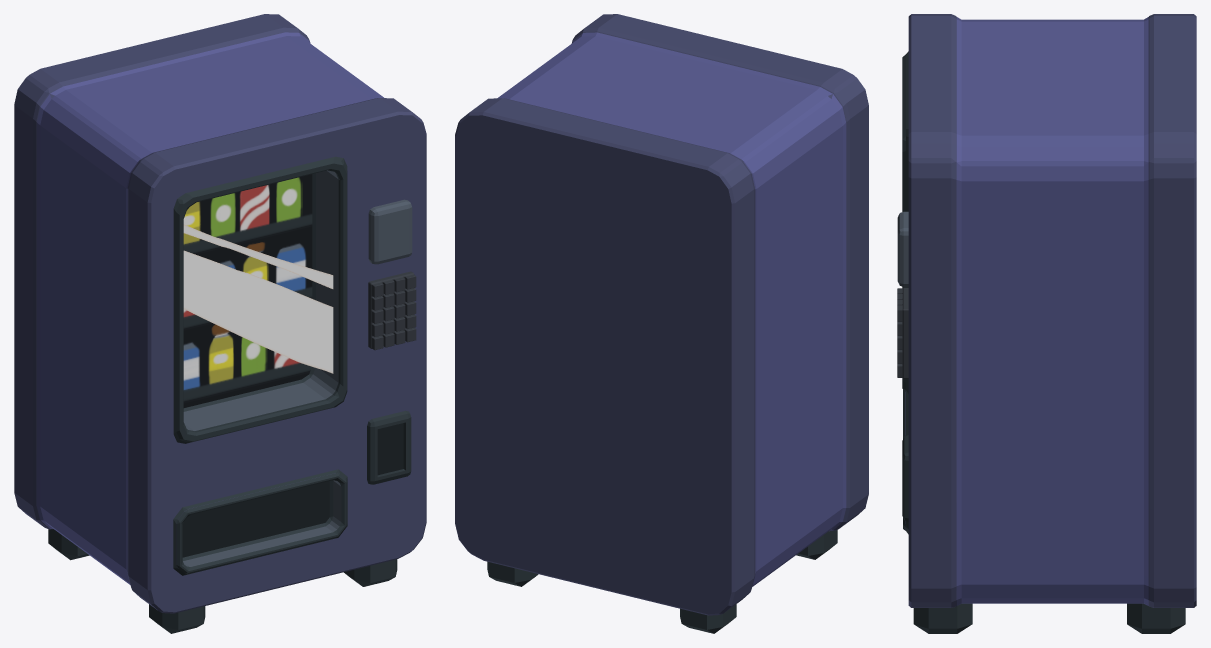
Rendered from 3D_Vending_Machine-Blue.fbx.
3 views of the same model, side by side, from view 1: azimuth 30°, elevation 25°; view 2: azimuth 150°, elevation 25°; view 3: azimuth 270°, elevation 25° (orthographic). The views are drawn at different scales.
Visible parts, largest first — view 1: 3D_Vending_Machine-Blue; view 2: 3D_Vending_Machine-Blue; view 3: 3D_Vending_Machine-Blue.
Boxes of the visible parts, x1,y1,x2,y2 form: 3D_Vending_Machine-Blue: (14, 14, 426, 633); 3D_Vending_Machine-Blue: (455, 14, 868, 633); 3D_Vending_Machine-Blue: (897, 14, 1196, 633).
Bounding box in the file's own units: 1.5 × 2.44 × 1.32.
